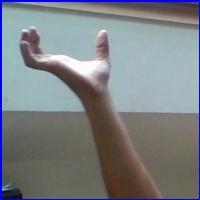B: (15, 21, 124, 94)
